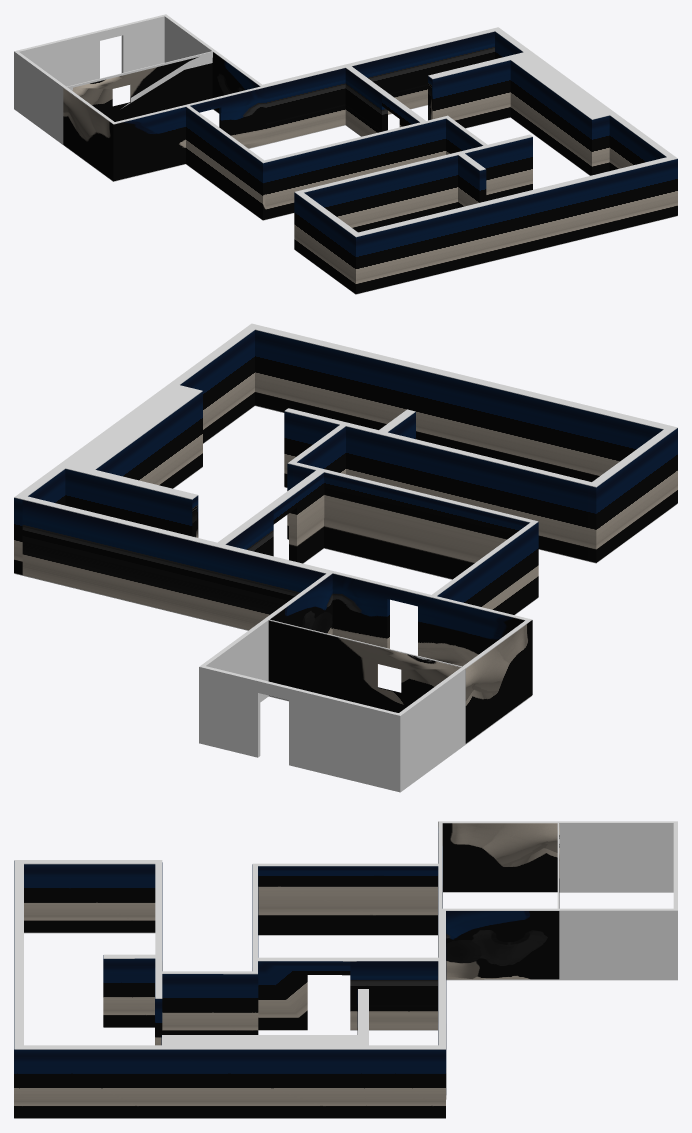
Rendered from houselayout 2.fbx.
3 renders of one model, top to bottom at view 1: azimuth 30°, elevation 25°; view 2: azimuth 150°, elevation 25°; view 3: azimuth 270°, elevation 25°, orthographic. The views are drawn at different scales.
Parts seen in each view (by area): view 1: Cube.004; view 2: Cube.004; view 3: Cube.004.
Part boxes in pixels (x1=…): Cube.004: x1=14, y1=14, x2=677, y2=294; Cube.004: x1=14, y1=323, x2=677, y2=792; Cube.004: x1=14, y1=821, x2=677, y2=1118.
Bounding box in the file's own units: 1509 × 215 × 1855.
Materials: 2 (1 with a texture image).
